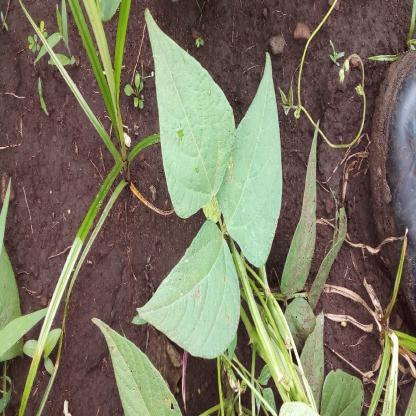Beans_Angular_LeafSpot: (134, 220, 240, 357), (219, 54, 281, 256)
